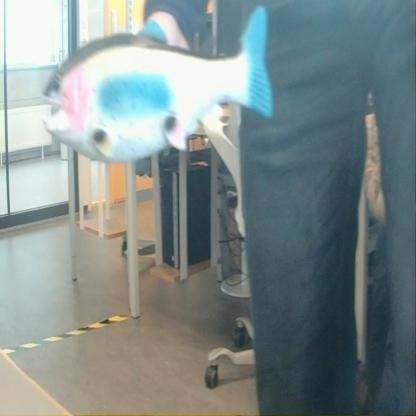rubberfish: (41, 2, 276, 166)
